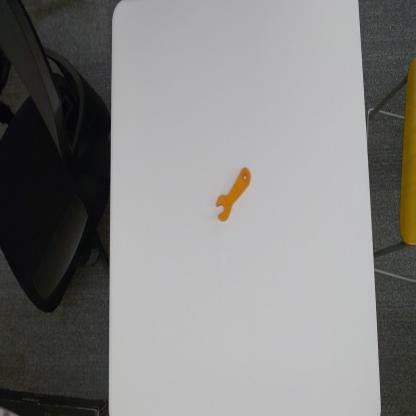Screwdriver: (213, 163, 253, 225)
